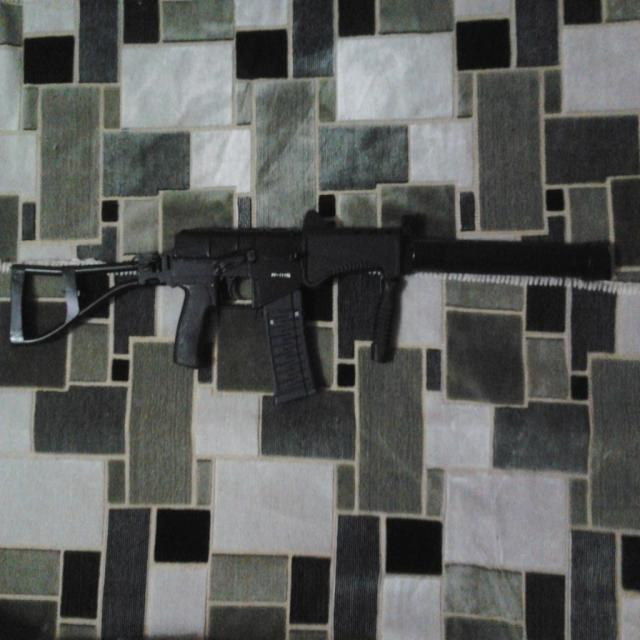firearm: (7, 194, 614, 402)
